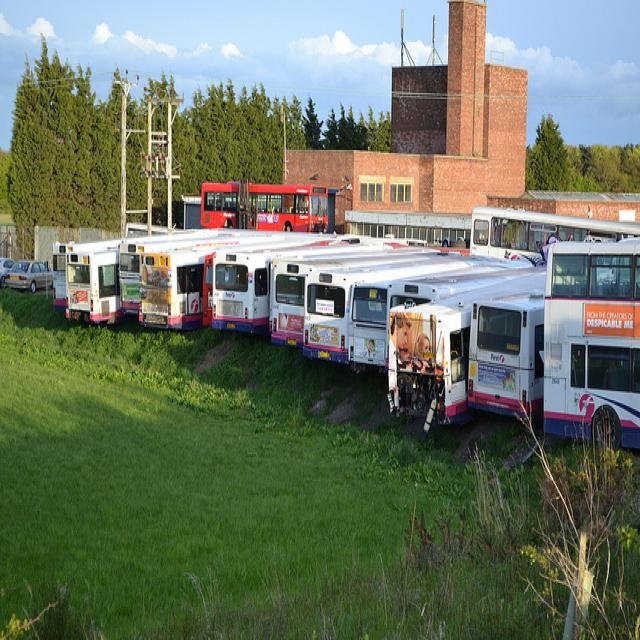Vehicle: (385, 267, 548, 434), (543, 237, 640, 452), (303, 253, 486, 363), (269, 243, 442, 348), (214, 243, 383, 337), (138, 221, 263, 329), (466, 289, 551, 423), (470, 206, 640, 266), (118, 230, 206, 319), (63, 236, 128, 326), (351, 269, 405, 362), (52, 239, 113, 311), (2, 258, 55, 291), (0, 256, 15, 288)
